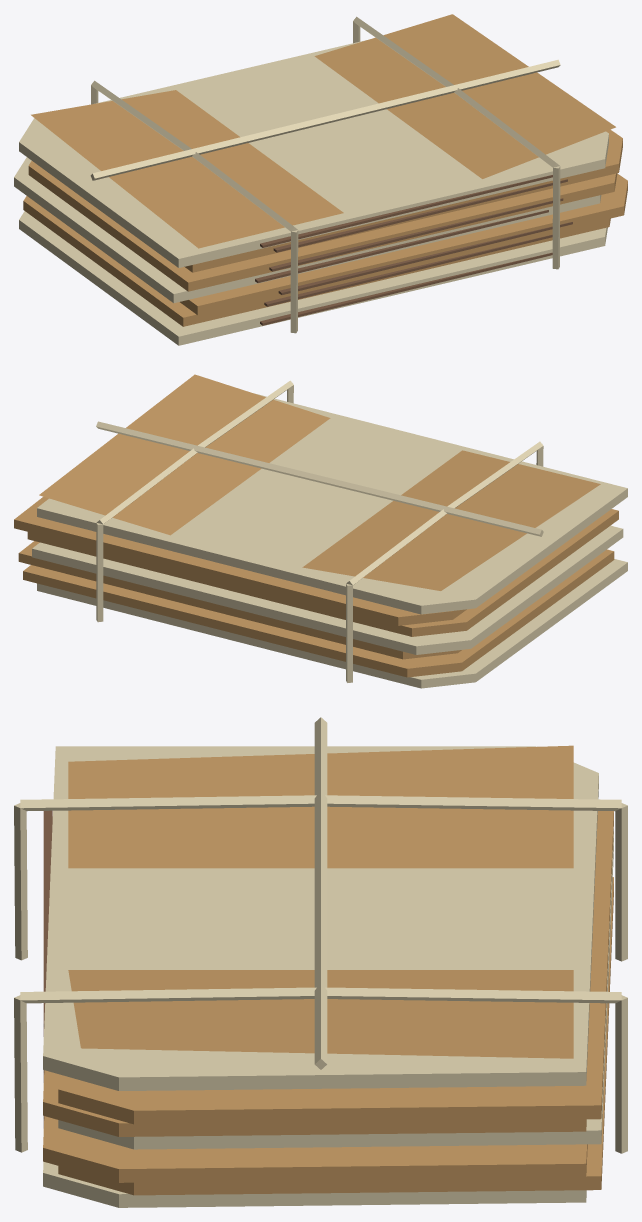
File: b04_flattened_cardboard_tied_stack.glb
3 renders of one model, top to bottom at view 1: azimuth 30°, elevation 25°; view 2: azimuth 150°, elevation 25°; view 3: azimuth 270°, elevation 25°, orthographic. The views are drawn at different scales.
Visible parts, largest first — view 1: b04_flattened_cardboard_tied_stack; view 2: b04_flattened_cardboard_tied_stack; view 3: b04_flattened_cardboard_tied_stack.
Part boxes in pixels (x1,y1,x2,y2): b04_flattened_cardboard_tied_stack: (14,14,627,345); b04_flattened_cardboard_tied_stack: (14,374,627,688); b04_flattened_cardboard_tied_stack: (14,717,627,1207).
Size of the model in its own units: 0.646 by 0.146 by 0.486.
